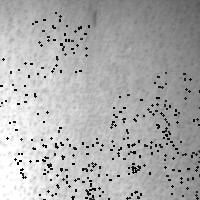pitted_surface: (1, 2, 70, 198), (153, 3, 200, 177), (110, 94, 170, 152), (112, 114, 172, 172), (39, 138, 98, 196), (43, 142, 102, 199), (32, 12, 88, 71), (6, 121, 66, 176), (152, 71, 200, 131), (0, 58, 46, 113), (82, 158, 140, 200), (166, 141, 200, 200)
